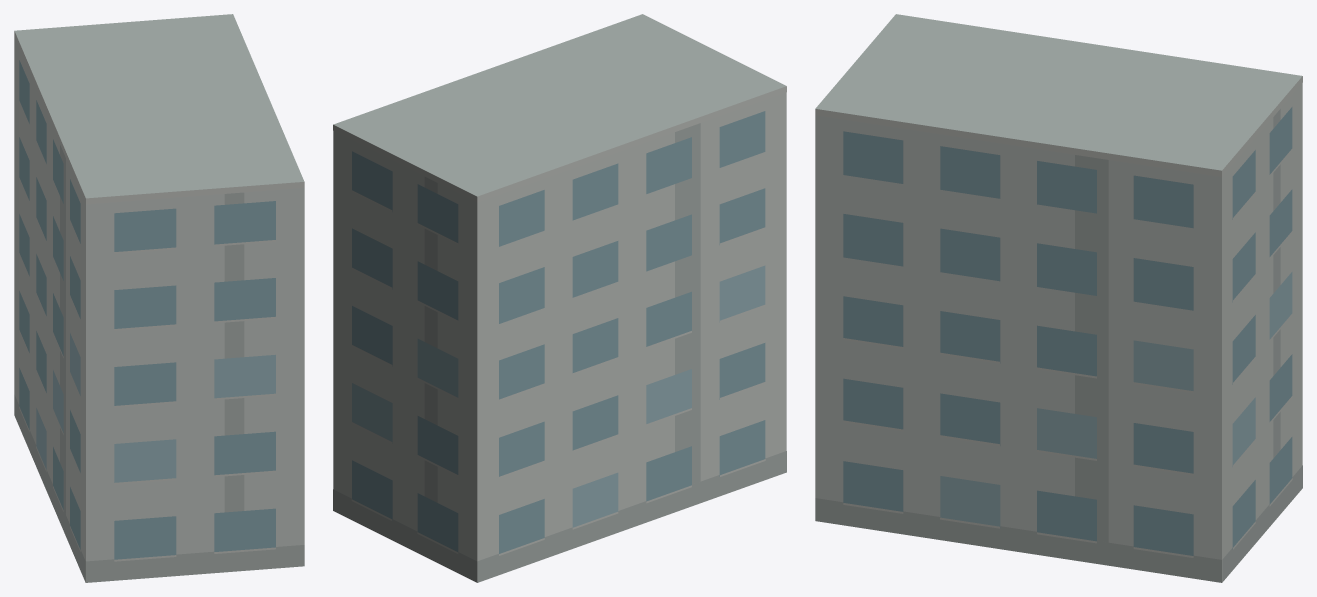
The model's file is residential-8663cac3-0000-4eb8-8738-e90691a5ff83.glb.
3 views of the same model, side by side, from view 1: azimuth 30°, elevation 25°; view 2: azimuth 150°, elevation 25°; view 3: azimuth 270°, elevation 25° (orthographic). The views are drawn at different scales.
Parts seen in each view (by area): view 1: residential-8663cac3-0000-4eb8-8738-e90691a5ff83.tmp; view 2: residential-8663cac3-0000-4eb8-8738-e90691a5ff83.tmp; view 3: residential-8663cac3-0000-4eb8-8738-e90691a5ff83.tmp.
Part boxes in pixels (box(x1,y1,x2,y2)): residential-8663cac3-0000-4eb8-8738-e90691a5ff83.tmp: box(14, 14, 304, 582); residential-8663cac3-0000-4eb8-8738-e90691a5ff83.tmp: box(333, 14, 786, 582); residential-8663cac3-0000-4eb8-8738-e90691a5ff83.tmp: box(815, 14, 1302, 582).
Bounding box in the file's own units: 12.44 × 15.25 × 16.35.
